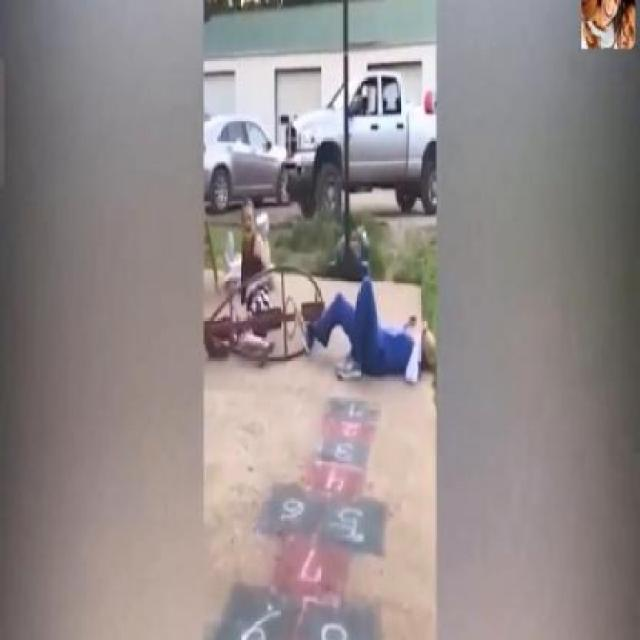fall: (312, 278, 436, 394), (232, 198, 276, 307)
